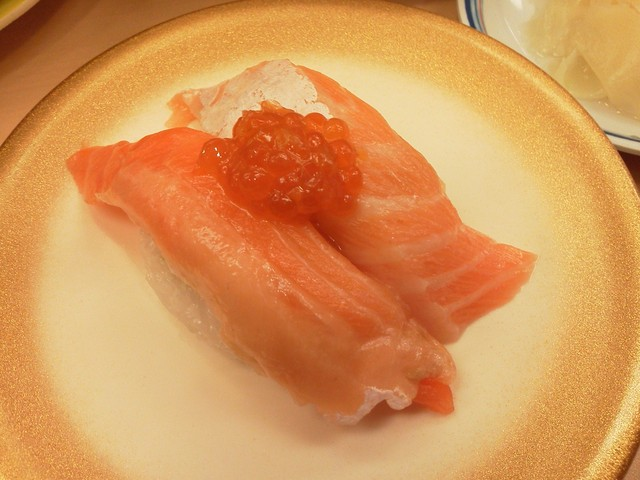salmon: (91, 130, 454, 427)
